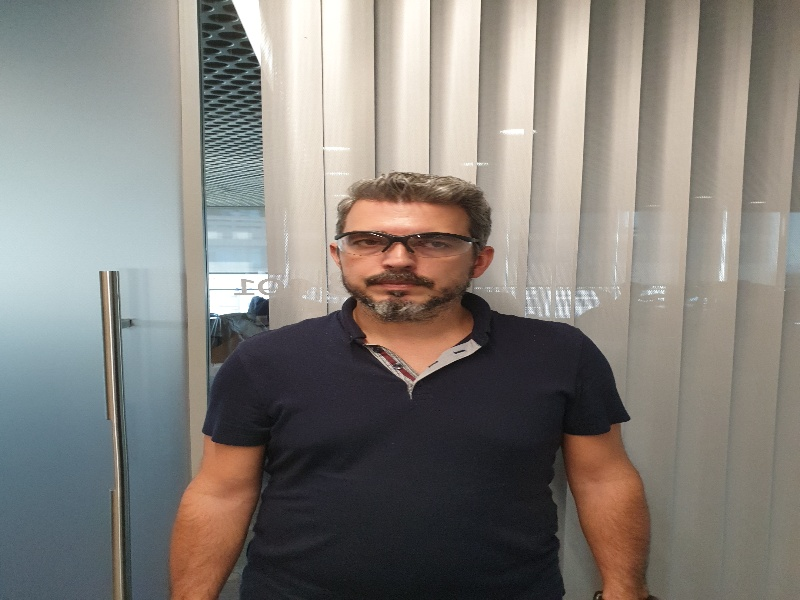Gozluk: (334, 231, 477, 256)
